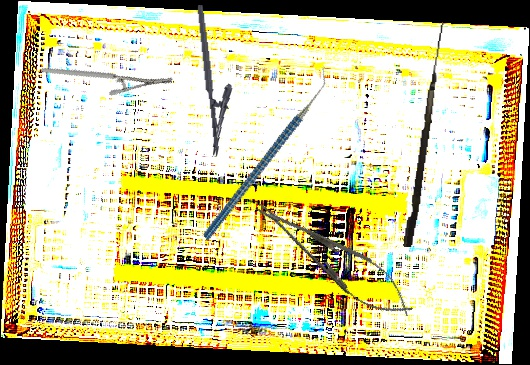Chopper: (161, 66, 370, 241)
Hook Surgical: (403, 21, 444, 248)
Needle Holder: (245, 187, 423, 330), (40, 27, 174, 123), (196, 2, 240, 157)
